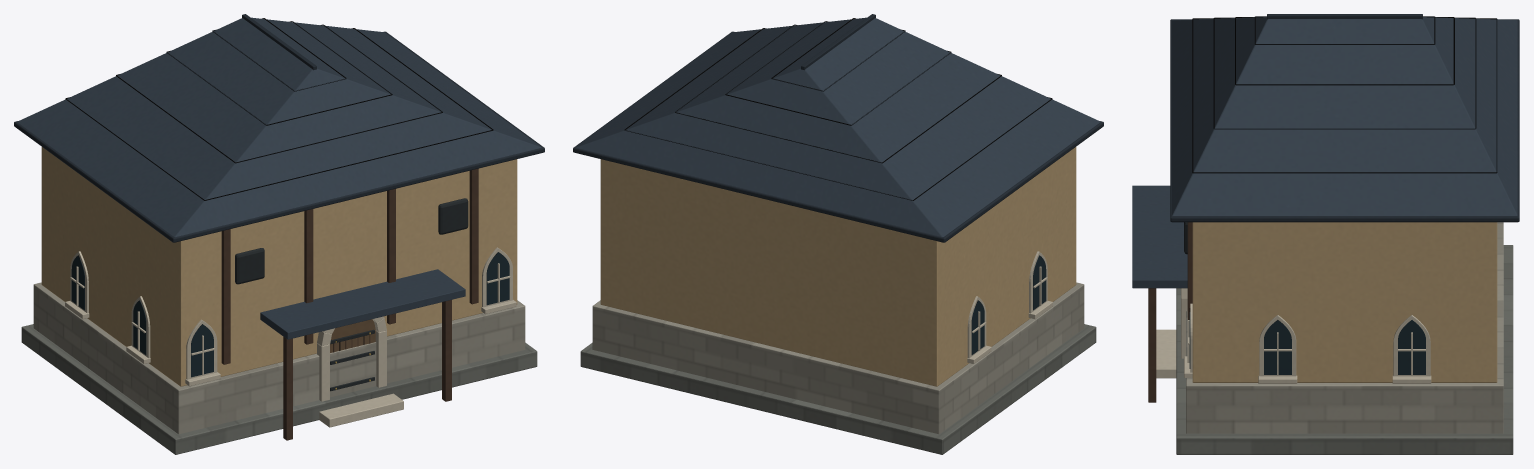
File: Granary.fbx
3 views of the same model, side by side, from view 1: azimuth 30°, elevation 25°; view 2: azimuth 150°, elevation 25°; view 3: azimuth 270°, elevation 25° (orthographic). The views are drawn at different scales.
Parts seen in each view (by area): view 1: Granary.001; view 2: Granary.001; view 3: Granary.001.
Boxes of the visible parts, x1,y1,x2,y2 form: Granary.001: [14, 14, 544, 454]; Granary.001: [573, 14, 1103, 454]; Granary.001: [1132, 14, 1519, 454].
Bounding box in the file's own units: 11.71 × 9.46 × 9.65.
